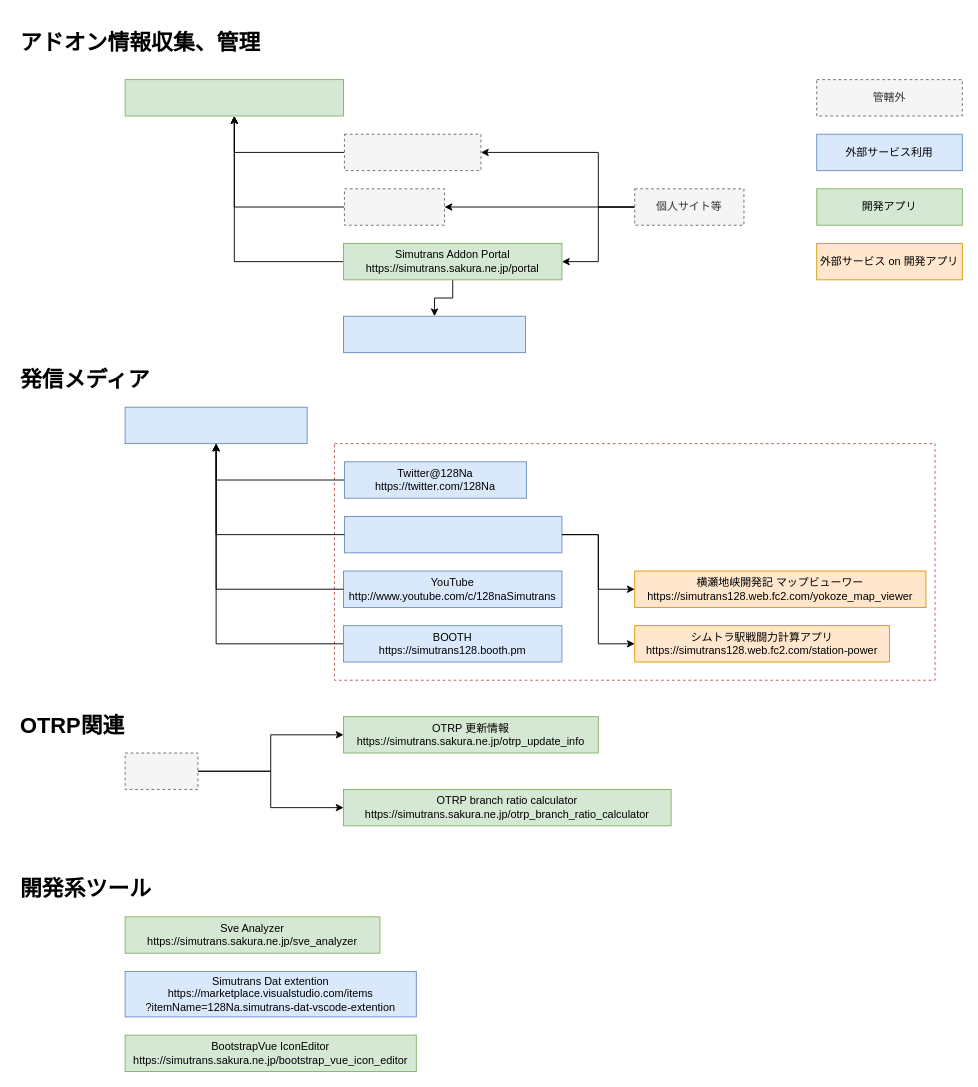
The diagram is 978 pixels wide and 1087 high, and some of its shapes have lost their labels. The shapes that lost their labels are listed below. From the top down, each one's box as (x1, y1, x2, y2) in pixels, then its label:
(124, 79, 344, 116): Simutransアドオン横断検索 https://simutrans.sakura.ne.jp/cross_search
(344, 133, 481, 171): Simutrans的な実験室
(344, 188, 445, 225): 日本語化wiki
(343, 315, 526, 353): Twitter@PortalSimutrans https://twitter.com/PortalSimutrans
(124, 406, 307, 444): Simutransで行こう https://simutrans128.blog.fc2.com
(344, 516, 562, 553): niconico https://www.nicovideo.jp/user/830813/video
(334, 443, 935, 680): 動画ベースコンテンツ
(124, 752, 198, 789): OTRP project
